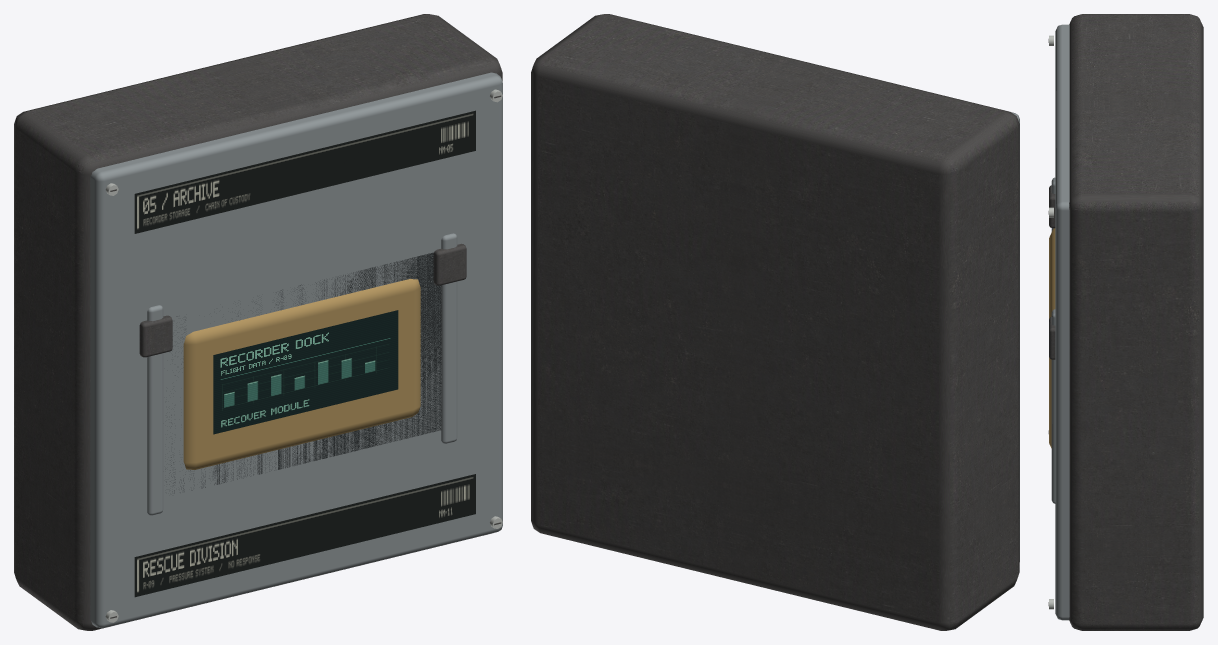
The model's file is archive-recorder.glb.
3 views of the same model, side by side, from view 1: azimuth 30°, elevation 25°; view 2: azimuth 150°, elevation 25°; view 3: azimuth 270°, elevation 25° (orthographic). The views are drawn at different scales.
Visible parts, largest first — view 1: wall-housing; view 2: wall-housing; view 3: wall-housing.
Boxes of the visible parts, x1,y1,x2,y2 form: wall-housing: (14,14,502,630); wall-housing: (531,14,1019,630); wall-housing: (1048,14,1203,630).
Size of the model in its own units: 0.9 by 0.96 by 0.309.
Materials: 7 (3 with a texture image).
